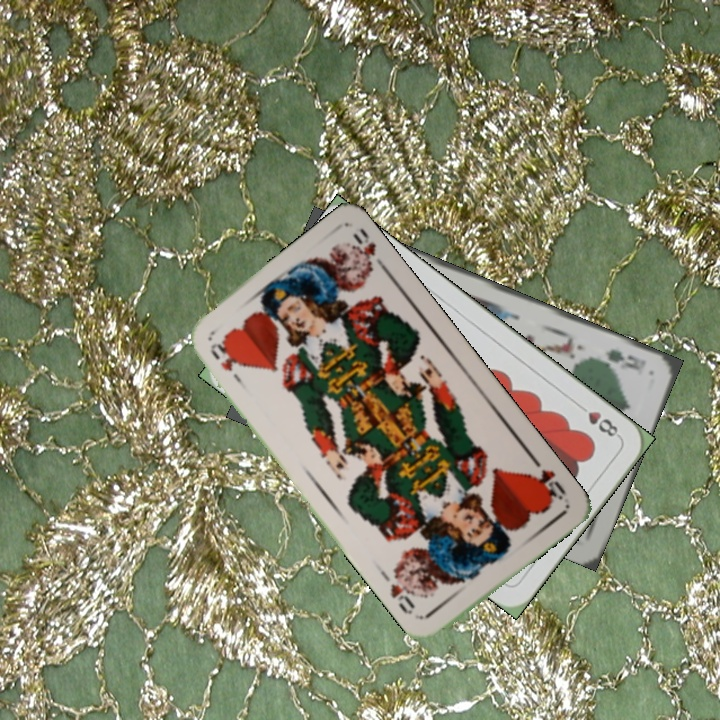GK: (592, 345, 649, 373)
H8: (573, 399, 623, 441)
HO: (205, 338, 247, 389), (528, 453, 569, 505)
